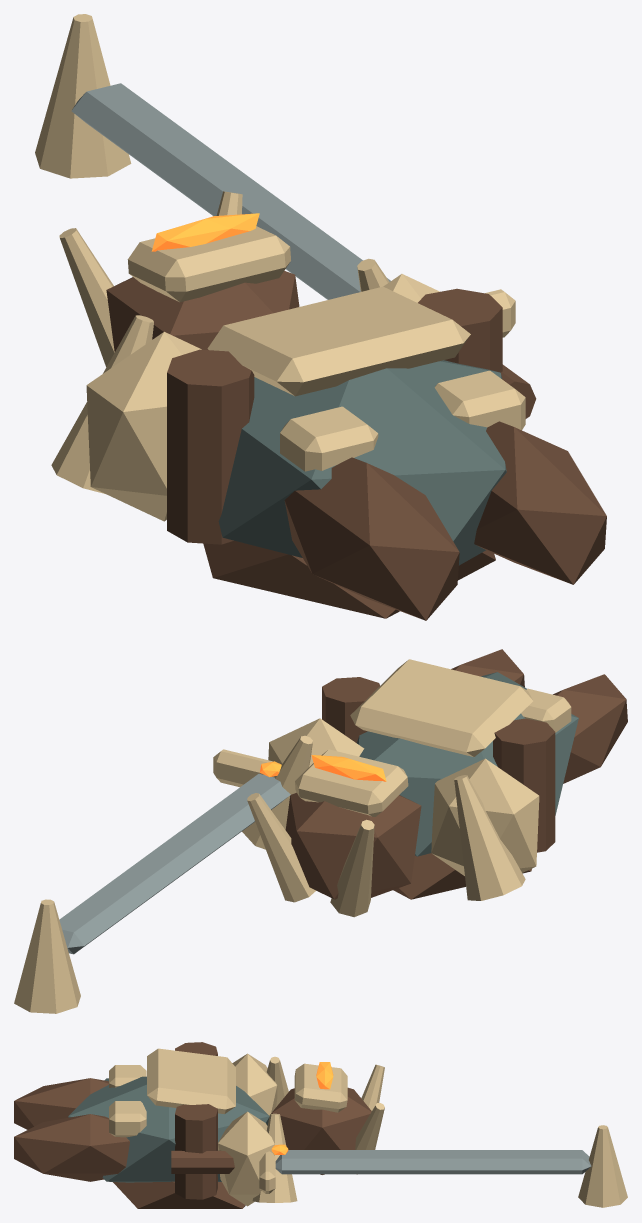
The model's file is hunter.glb.
3 views of the same model, one above another, from view 1: azimuth 30°, elevation 25°; view 2: azimuth 150°, elevation 25°; view 3: azimuth 270°, elevation 25° (orthographic). The views are drawn at different scales.
Visible parts, largest first — view 1: chest, leg_-1, chest_plate, weapon_blade, leg_1, arm_-1, shoulder_-1, weapon_tip, head, helmet_front, back_shell, knee_-1 (+5 smaller); view 2: chest_plate, weapon_blade, head, shoulder_-1, chest, shoulder_spike_-1, arm_-1, weapon_tip, leg_-1, helmet_front, helmet_horn_1, helmet_horn_-1 (+8 smaller); view 3: weapon_blade, leg_1, chest, chest_plate, head, shoulder_1, arm_1, leg_-1, weapon_tip, back_shell, helmet_front, shoulder_-1 (+10 smaller).
Boxes of the visible parts, x1,y1,x2,y2 form: chest: [218, 360, 506, 565]; leg_-1: [284, 457, 459, 620]; chest_plate: [207, 286, 470, 396]; weapon_blade: [71, 83, 390, 299]; leg_1: [474, 421, 606, 584]; arm_-1: [167, 349, 254, 544]; shoulder_-1: [86, 331, 201, 521]; weapon_tip: [35, 14, 131, 178]; head: [106, 271, 299, 351]; helmet_front: [127, 226, 290, 302]; back_shell: [203, 540, 495, 618]; knee_-1: [280, 406, 378, 471]; chest_plate: [350, 659, 533, 756]; weapon_blade: [59, 773, 290, 954]; head: [285, 792, 421, 899]; shoulder_-1: [431, 758, 539, 875]; chest: [357, 672, 578, 856]; shoulder_spike_-1: [454, 775, 525, 900]; arm_-1: [493, 718, 555, 852]; weapon_tip: [14, 899, 80, 1013]; leg_-1: [553, 674, 627, 783]; helmet_front: [295, 749, 408, 816]; helmet_horn_1: [247, 793, 315, 902]; helmet_horn_-1: [330, 819, 374, 917]; weapon_blade: [275, 1150, 591, 1174]; leg_1: [14, 1114, 129, 1181]; chest: [68, 1076, 269, 1182]; chest_plate: [147, 1048, 235, 1114]; head: [271, 1087, 371, 1174]; shoulder_1: [218, 1111, 274, 1206]; arm_1: [175, 1104, 217, 1199]; leg_-1: [14, 1078, 108, 1129]; weapon_tip: [578, 1125, 627, 1207]; back_shell: [113, 1181, 245, 1208]; helmet_front: [294, 1063, 347, 1112]; shoulder_-1: [232, 1053, 277, 1115].
Bounding box in the file's own units: 2.08 × 1.18 × 4.92.
